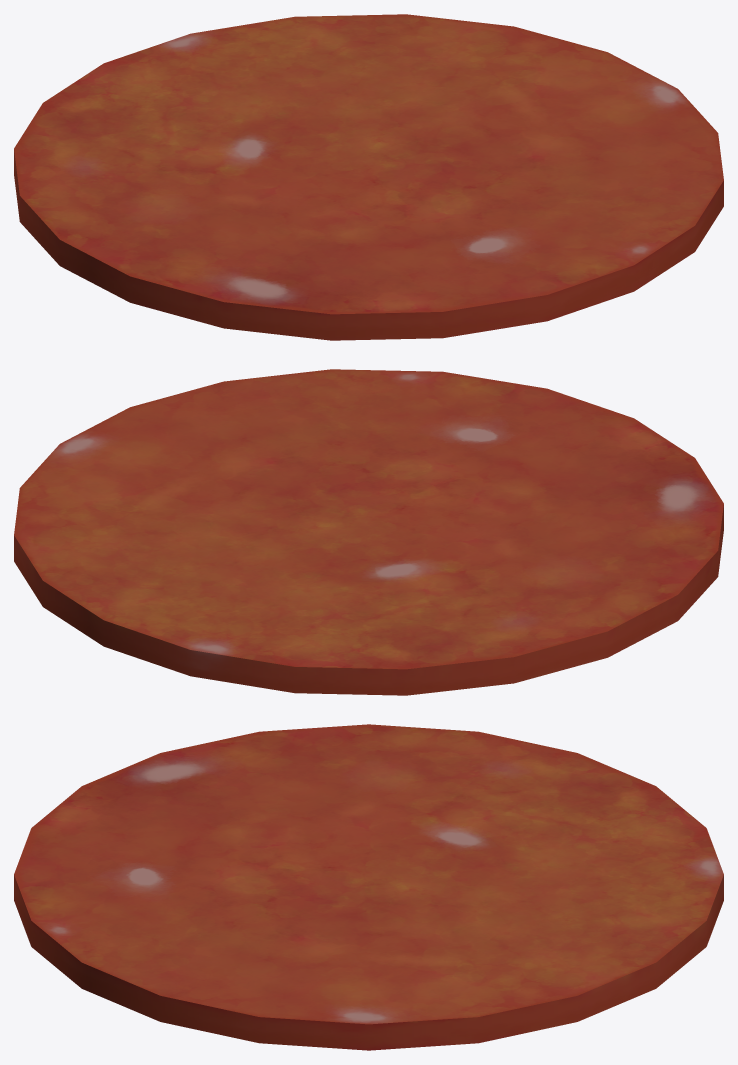
The model's file is pepperoni.glb.
The picture shows the model from 3 angles, top to bottom: view 1: azimuth 30°, elevation 25°; view 2: azimuth 150°, elevation 25°; view 3: azimuth 270°, elevation 25°; orthographic projection.
Visible parts, largest first — view 1: Pepperoni; view 2: Pepperoni; view 3: Pepperoni.
Boxes of the visible parts, left/top/right/bottom form: Pepperoni: left=14, top=14, right=723, bottom=340; Pepperoni: left=14, top=369, right=723, bottom=695; Pepperoni: left=14, top=724, right=723, bottom=1050.
Bounding box in the file's own units: 6.82 × 0.2775 × 6.82.
1 material, 1 textured.
